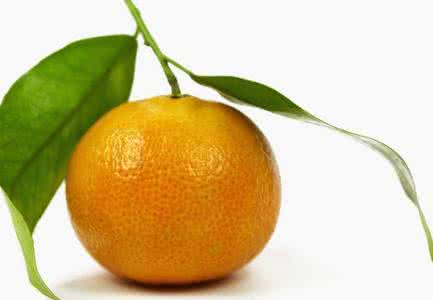orange: (51, 50, 283, 288)
